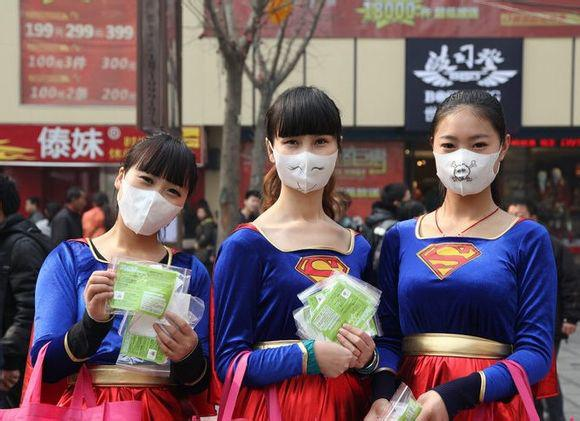OK: (274, 131, 338, 194), (437, 131, 499, 195), (118, 174, 183, 233)
